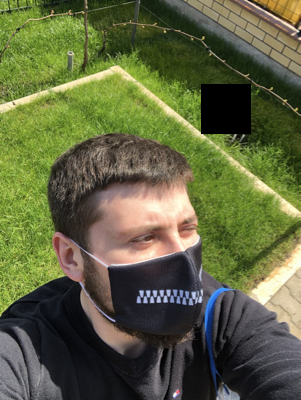with_mask: (101, 203, 205, 347)
